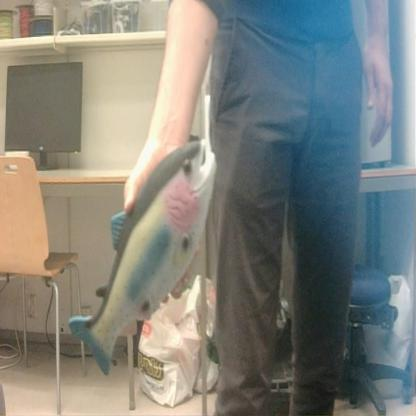rubberfish: (66, 127, 219, 376)
